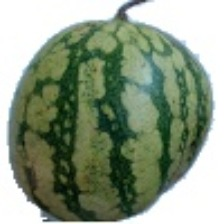watermelon: (29, 59, 178, 198)
